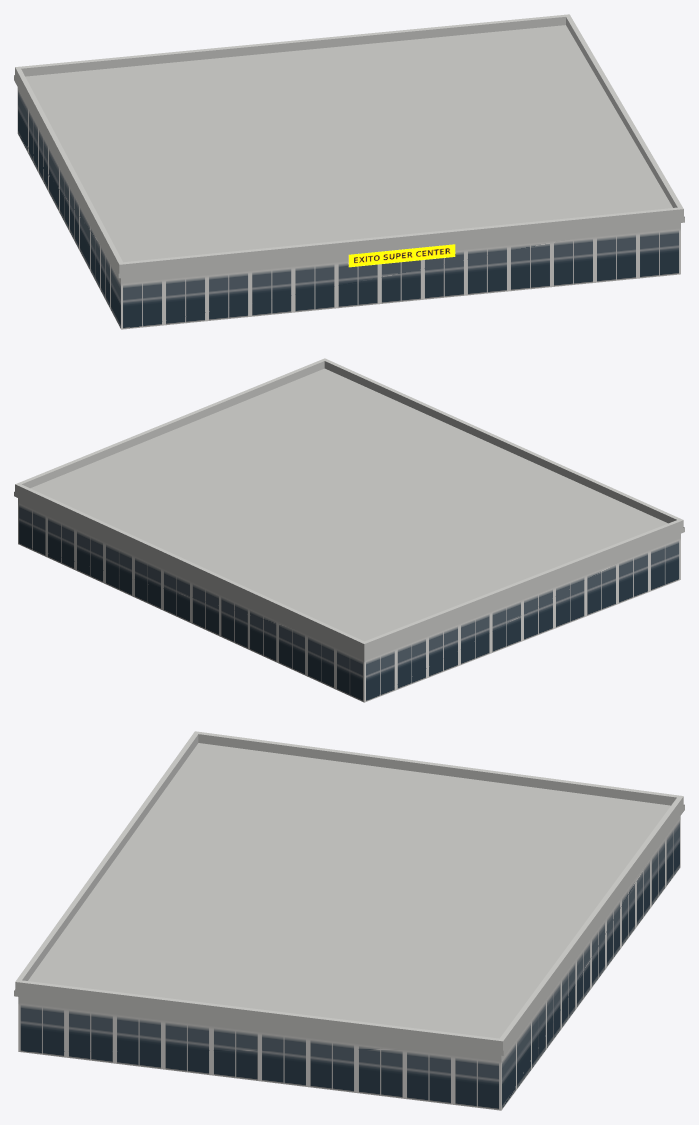
File: exito.glb
3 renders of one model, top to bottom at view 1: azimuth 30°, elevation 25°; view 2: azimuth 150°, elevation 25°; view 3: azimuth 270°, elevation 25°, orthographic. The views are drawn at different scales.
Visible parts, largest first — view 1: exito_lod0; view 2: exito_lod0; view 3: exito_lod0.
Boxes of the visible parts, bbox=[...] form: exito_lod0: bbox=[14, 14, 684, 329]; exito_lod0: bbox=[14, 358, 684, 702]; exito_lod0: bbox=[14, 731, 684, 1110].
Size of what is drawn, in the model's own units: 75.57 by 8 by 68.87.
4 materials, 2 textured.
